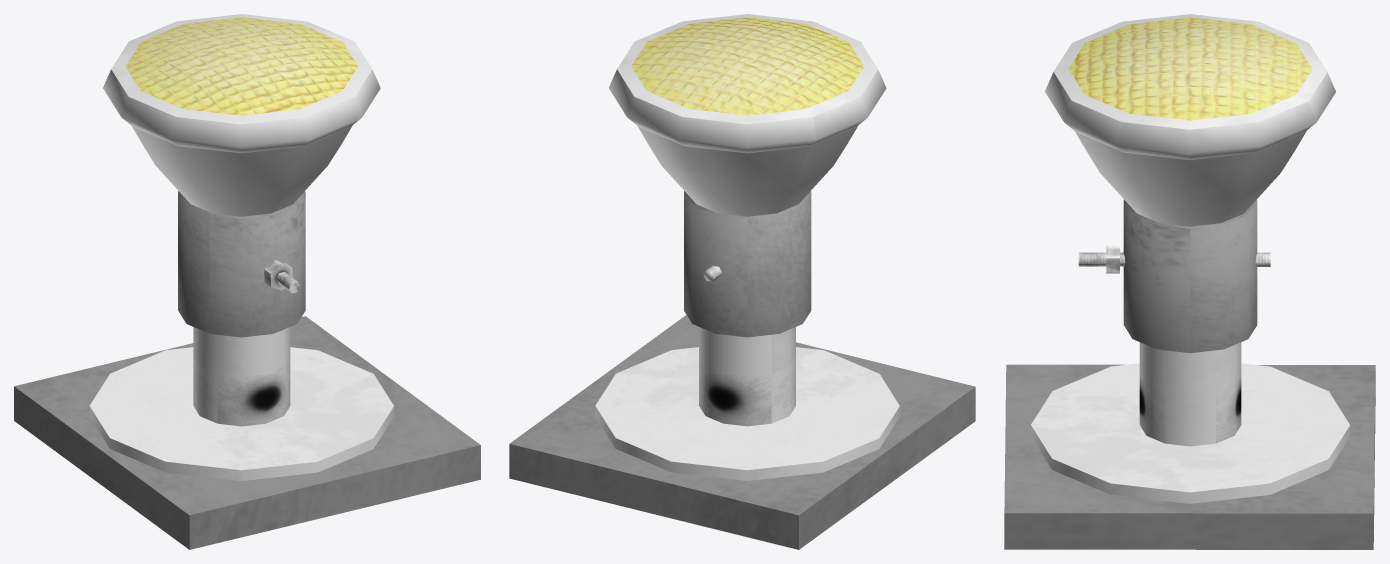
The model's file is Flood Yellow.fbx.
3 renders of one model, left to right at view 1: azimuth 30°, elevation 25°; view 2: azimuth 150°, elevation 25°; view 3: azimuth 270°, elevation 25°, orthographic. The views are drawn at different scales.
Parts seen in each view (by area): view 1: Circle.006; view 2: Circle.006; view 3: Circle.006.
Boxes of the visible parts, x1,y1,x2,y2 form: Circle.006: (14, 14, 480, 549); Circle.006: (509, 14, 975, 549); Circle.006: (1004, 14, 1375, 549).
Size of the model in its own units: 12.19 by 16.01 by 12.83.
